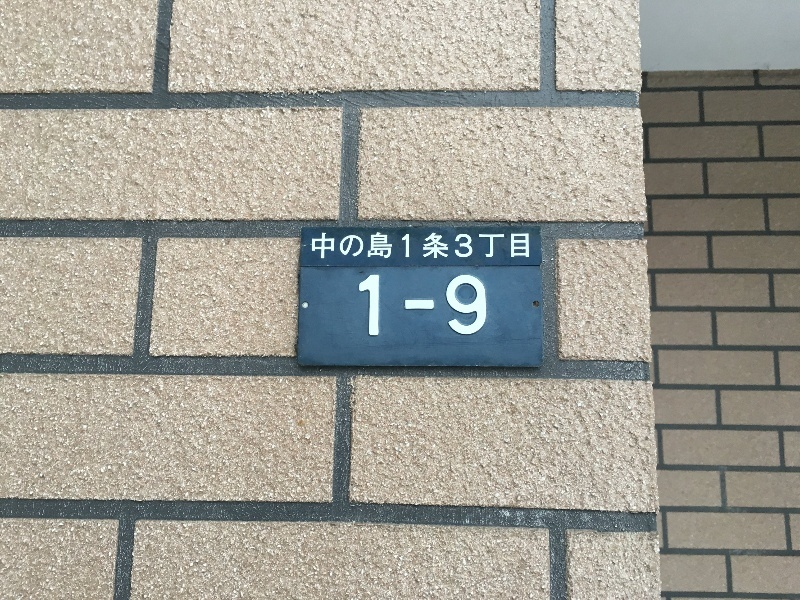text: (369, 275, 384, 337), (385, 275, 400, 337), (401, 275, 416, 337), (417, 275, 432, 337), (433, 275, 448, 337), (449, 275, 464, 337), (465, 275, 480, 337), (360, 275, 368, 337), (481, 275, 488, 337), (321, 233, 336, 259), (337, 233, 352, 259), (353, 233, 368, 259), (369, 233, 384, 259), (385, 233, 400, 259), (401, 233, 416, 259), (417, 233, 432, 259), (433, 233, 448, 259), (449, 233, 464, 259), (465, 233, 480, 259), (481, 233, 496, 259), (497, 233, 512, 259), (513, 233, 528, 259), (312, 233, 320, 259), (529, 233, 530, 259)
